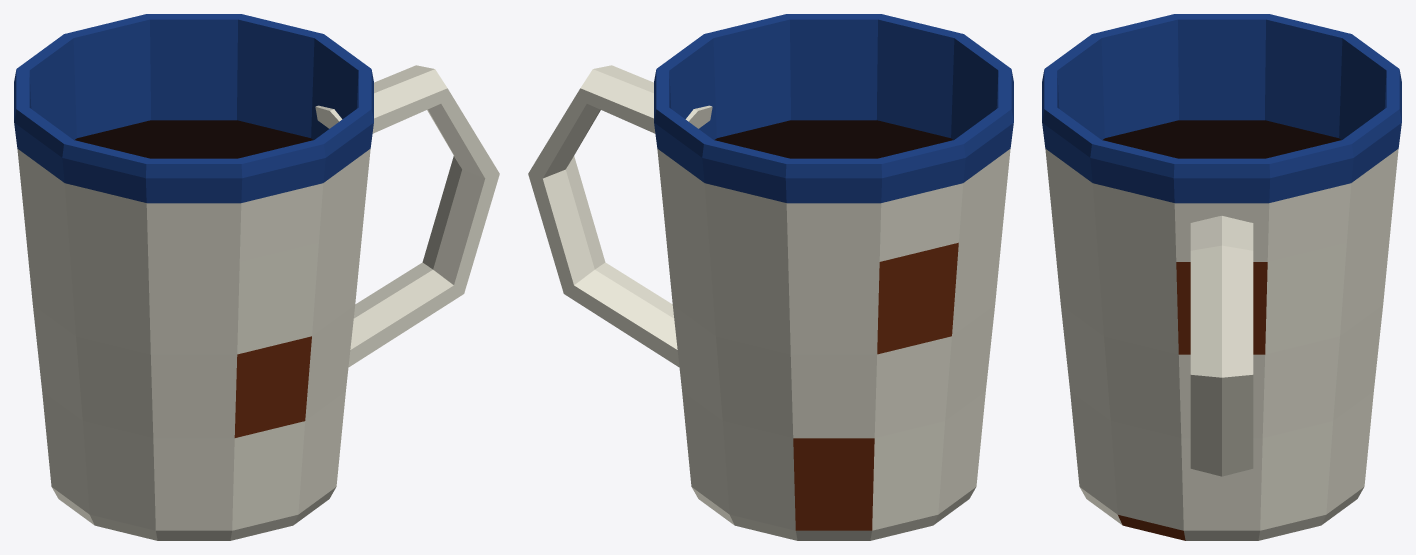
The model's file is coffee.glb.
The picture shows the model from 3 angles, left to right: view 1: azimuth 30°, elevation 25°; view 2: azimuth 150°, elevation 25°; view 3: azimuth 270°, elevation 25°; orthographic projection.
Parts seen in each view (by area): view 1: coffee; view 2: coffee; view 3: coffee.
Part boxes in pixels (<box>): coffee: <box>14,14,499,540</box>; coffee: <box>528,14,1013,540</box>; coffee: <box>1042,14,1401,540</box>.
Bounding box in the file's own units: 0.1082 × 0.09 × 0.0744.
